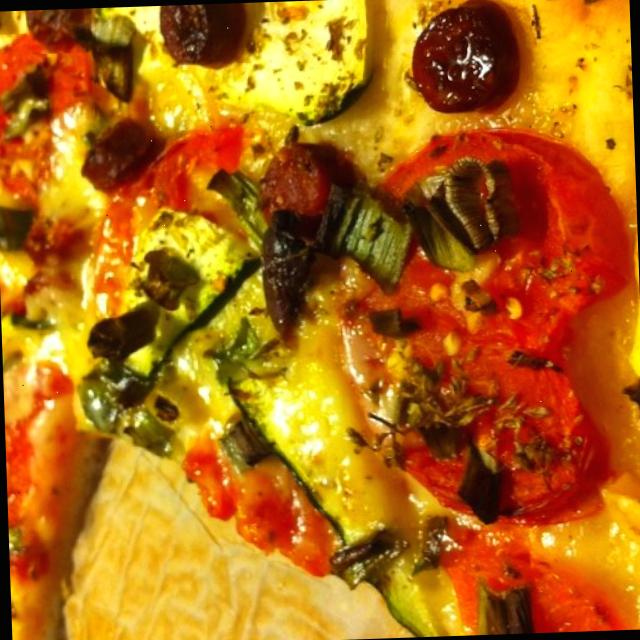Olive: (408, 0, 520, 117), (258, 147, 354, 230), (73, 114, 166, 188), (155, 2, 248, 70), (25, 8, 88, 54)
tomato: (333, 123, 640, 529), (83, 117, 247, 302), (1, 363, 69, 585), (0, 31, 96, 176)
